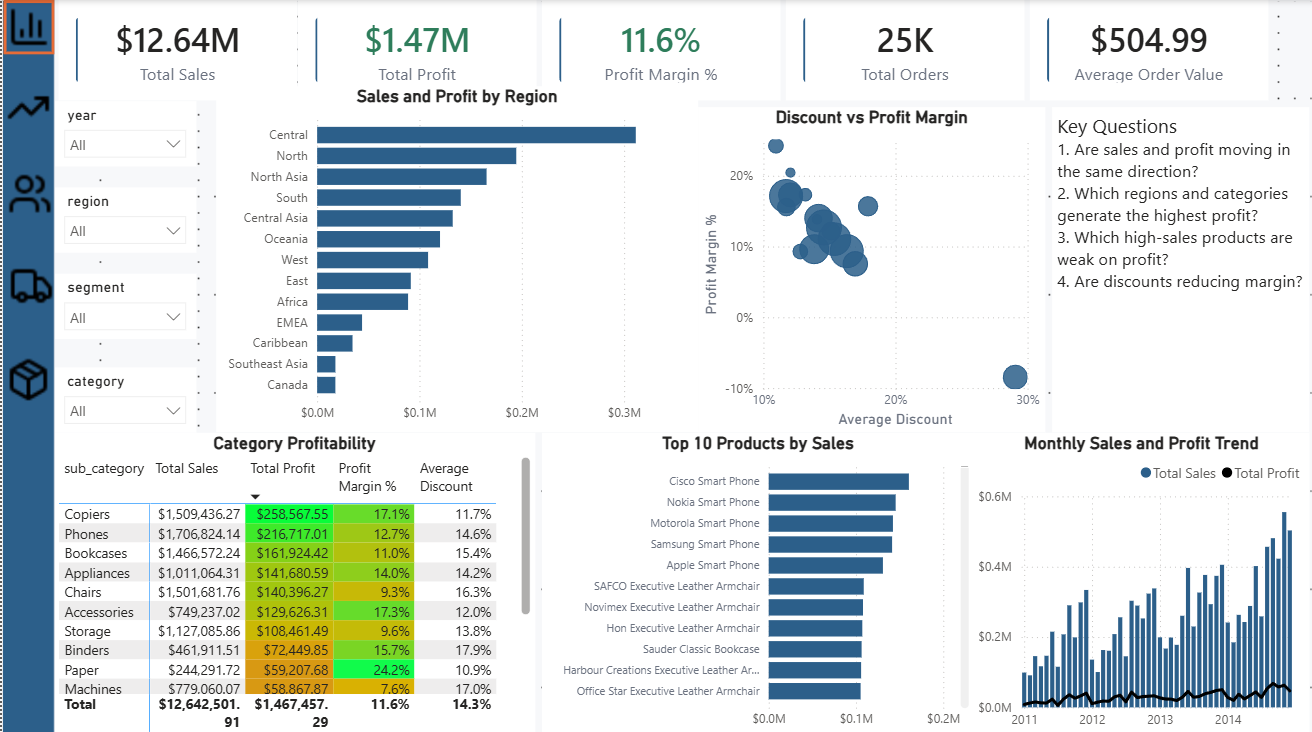

The dashboard page shown, as its layout file describes it:
{"tool":"powerbi","page":{"name":"Executive Overview","canvas":[1280,720],"ordinal":0},"visuals":[{"type":"shape","box":[0,0,51.7,720],"z":0,"group":"g1"},{"type":"cardVisual","fields":{"Data":["_Measures.Total Sales"]},"box":[55.6,0,233.2,98.4],"z":0},{"type":"actionButton","box":[1.7,0,50,53.3],"z":1000,"group":"g1"},{"type":"cardVisual","fields":{"Data":["_Measures.Total Profit"]},"box":[289.8,0,233.2,98.4],"z":1000},{"type":"cardVisual","fields":{"Data":["_Measures.Profit Margin %"]},"box":[528.4,0,233.2,98.4],"z":2000},{"type":"actionButton","box":[0,78.3,51.7,53.3],"z":2000,"group":"g1"},{"type":"cardVisual","fields":{"Data":["_Measures.Total Orders"]},"box":[766.9,0,233.2,98.4],"z":3000},{"type":"actionButton","box":[1.7,163.3,51.7,53.3],"z":3000,"group":"g1"},{"type":"slicer","fields":{"Values":["dim.date.year"]},"box":[51.3,98.4,139,64.2],"z":4000},{"type":"actionButton","box":[3.3,253.3,51.7,53.3],"z":4000,"group":"g1"},{"type":"slicer","fields":{"Values":["dim.geography.region"]},"box":[51.3,184,139,64.2],"z":5000},{"type":"actionButton","box":[0,345,51.7,53.3],"z":5000,"group":"g1"},{"type":"slicer","fields":{"Values":["dim.customer.segment"]},"box":[51.3,267.4,139,64.2],"z":6000},{"type":"slicer","fields":{"Values":["dim.product.category"]},"box":[51.3,359.4,139,64.2],"z":7000},{"type":"cardVisual","fields":{"Data":["_Measures.Average Order Value"]},"box":[1005.4,0,233.2,98.4],"z":8000},{"type":"lineStackedColumnComboChart","title":"Monthly Sales and Profit Trend","fields":{"Y":["_Measures.Total Sales"],"Y2":["_Measures.Total Profit"],"Category":["dim.date.Month Start Date"]},"box":[950,422.7,328.8,298.5],"z":9000},{"type":"clusteredBarChart","title":"Sales and Profit by Region","fields":{"Category":["dim.geography.region"],"Y":["_Measures.Total Profit"]},"box":[209.1,84.8,471.2,337.9],"z":10000},{"type":"pivotTable","title":"Category Profitability","fields":{"Rows":["dim.product.category","dim.product.sub_category"],"Values":["_Measures.Total Sales","_Measures.Total Profit","_Measures.Profit Margin %","_Measures.Average Discount"]},"box":[51.3,423.5,470.6,297.3],"z":11000},{"type":"barChart","title":"Top 10 Products by Sales","fields":{"Category":["dim.product.product_short_name"],"Y":["_Measures.Total Sales"]},"box":[527.3,422.7,422.7,298.5],"z":12000},{"type":"scatterChart","title":"Discount vs Profit Margin","fields":{"X":["_Measures.Average Discount"],"Y":["_Measures.Profit Margin %"],"Size":["_Measures.Total Sales"],"Category":["dim.product.sub_category"]},"box":[680.3,104.5,339.4,318.2],"z":13000},{"type":"textbox","box":[1027.3,104.5,251.5,318.2],"z":14000},{"type":"group","id":"g1","title":"Group 1","box":[0,0,55,720],"z":14001}]}

Visuals, with their boxes on the page's 1280x720 design canvas (x1, y1, x2, y2). These are canvas units, not pixel positions in the 1312x732 screenshot, which may show the page scaled, cropped or inside an application window:
shape: [0, 0, 52, 720]
cardVisual - _Measures.Total Sales: [56, 0, 289, 98]
actionButton: [2, 0, 52, 53]
cardVisual - _Measures.Total Profit: [290, 0, 523, 98]
cardVisual - _Measures.Profit Margin %: [528, 0, 762, 98]
actionButton: [0, 78, 52, 132]
cardVisual - _Measures.Total Orders: [767, 0, 1000, 98]
actionButton: [2, 163, 53, 217]
slicer - dim.date.year: [51, 98, 190, 163]
actionButton: [3, 253, 55, 307]
slicer - dim.geography.region: [51, 184, 190, 248]
actionButton: [0, 345, 52, 398]
slicer - dim.customer.segment: [51, 267, 190, 332]
slicer - dim.product.category: [51, 359, 190, 424]
cardVisual - _Measures.Average Order Value: [1005, 0, 1239, 98]
"Monthly Sales and Profit Trend" lineStackedColumnComboChart: [950, 423, 1279, 721]
"Sales and Profit by Region" clusteredBarChart: [209, 85, 680, 423]
"Category Profitability" pivotTable: [51, 424, 522, 721]
"Top 10 Products by Sales" barChart: [527, 423, 950, 721]
"Discount vs Profit Margin" scatterChart: [680, 104, 1020, 423]
textbox: [1027, 104, 1279, 423]
"Group 1" group: [0, 0, 55, 720]
